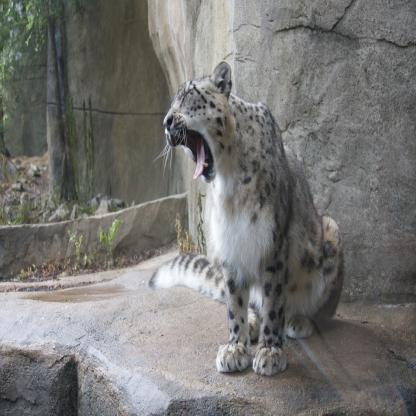leopard: (159, 57, 244, 193)
